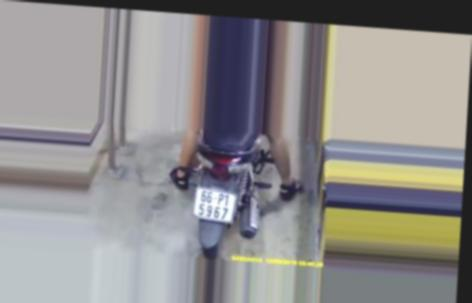License_Plate: (188, 184, 240, 227)
